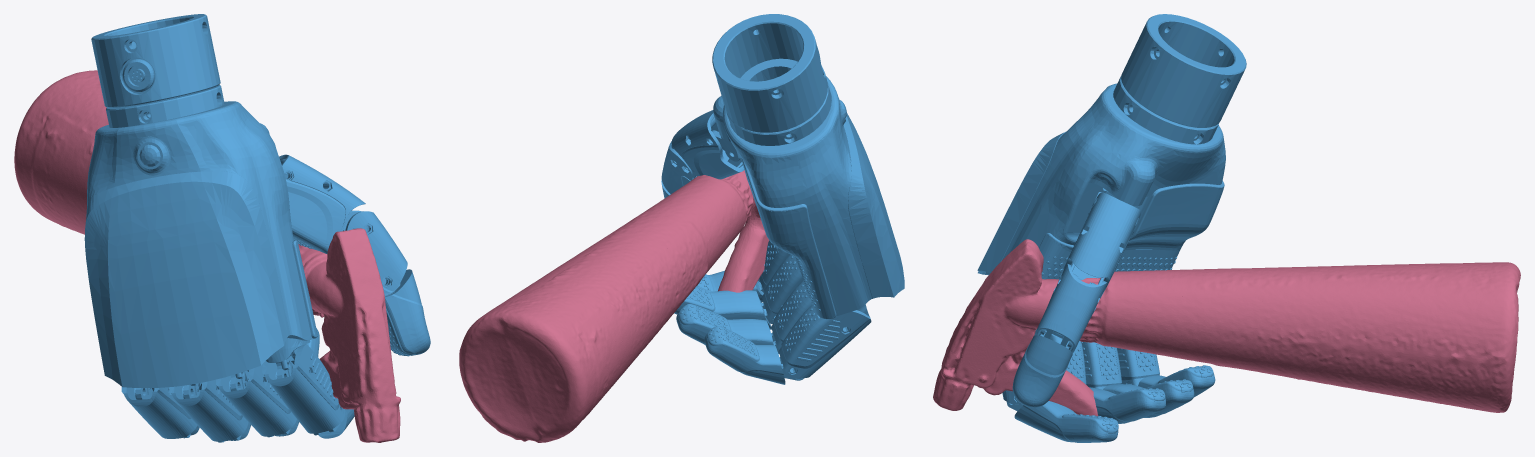
3 views of the same model, side by side, from view 1: azimuth 30°, elevation 25°; view 2: azimuth 150°, elevation 25°; view 3: azimuth 270°, elevation 25° (orthographic). The views are drawn at different scales.
Visible parts, largest first — view 1: 0; view 2: 0; view 3: 0.
Part boxes in pixels (left/top/right/bottom): 0: left=14, top=14, right=430, bottom=442; 0: left=459, top=14, right=904, bottom=442; 0: left=933, top=14, right=1520, bottom=442.
Size of the model in its own units: 0.1386 by 0.1924 by 0.2685.
